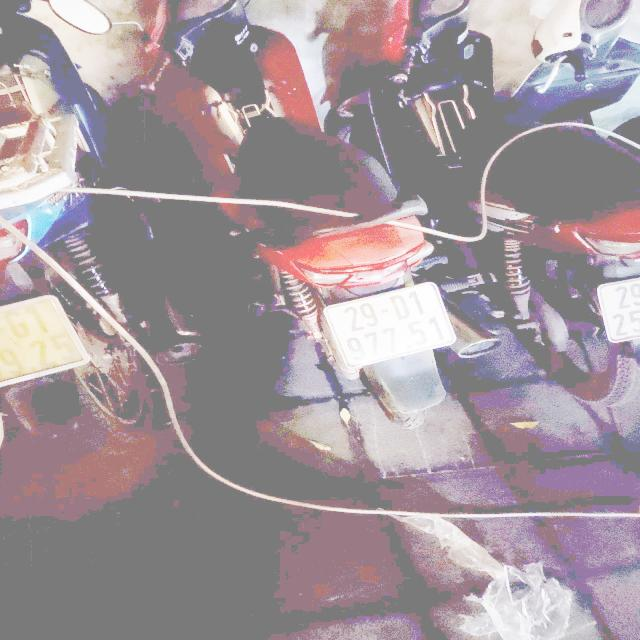license_plate: (315, 276, 464, 375)
